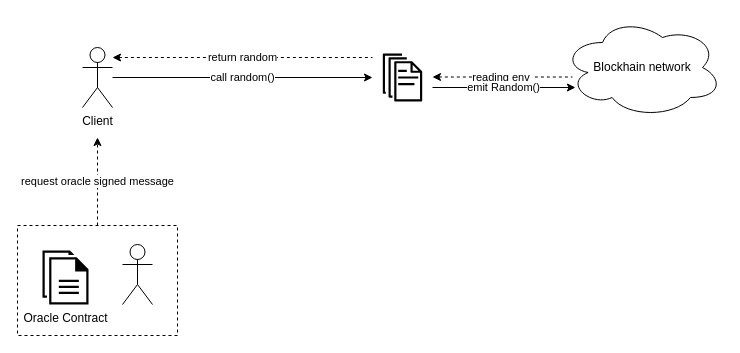
Some shapes in this 740 by 353 pixel diagram are drawn without their labels. Each missing label, with the box of its shape:
Oracle: (122, 244, 152, 304)
PRNG contract: (372, 46, 432, 108)
